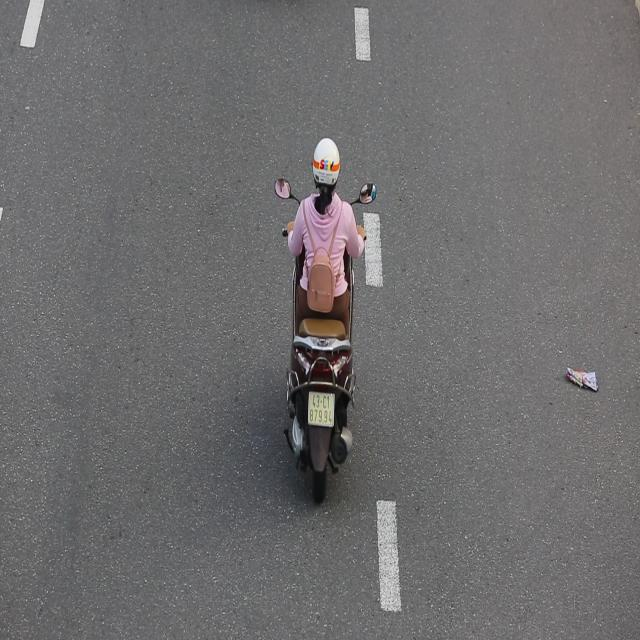motorbike: (265, 127, 384, 533)
